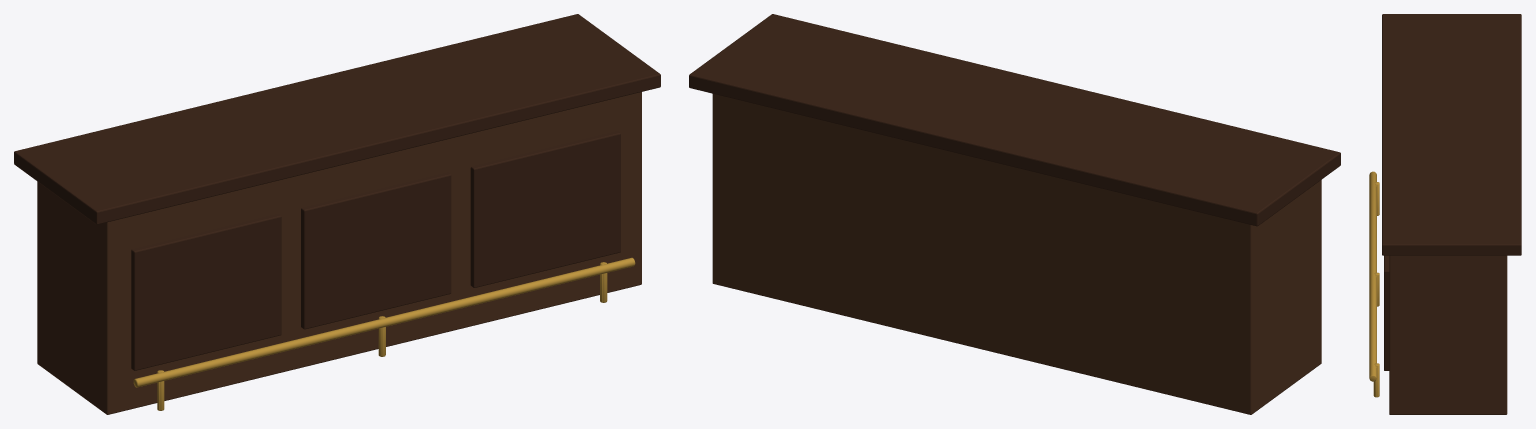
The model's file is tresen.glb.
3 views of the same model, side by side, from view 1: azimuth 30°, elevation 25°; view 2: azimuth 150°, elevation 25°; view 3: azimuth 270°, elevation 25° (orthographic). The views are drawn at different scales.
Parts seen in each view (by area): view 1: tresen; view 2: tresen; view 3: tresen.
Boxes of the visible parts, bbox=[...] form: tresen: bbox=[14, 14, 660, 414]; tresen: bbox=[689, 14, 1340, 414]; tresen: bbox=[1369, 14, 1521, 414].
Bounding box in the file's own units: 3.06 × 1.09 × 0.851.
